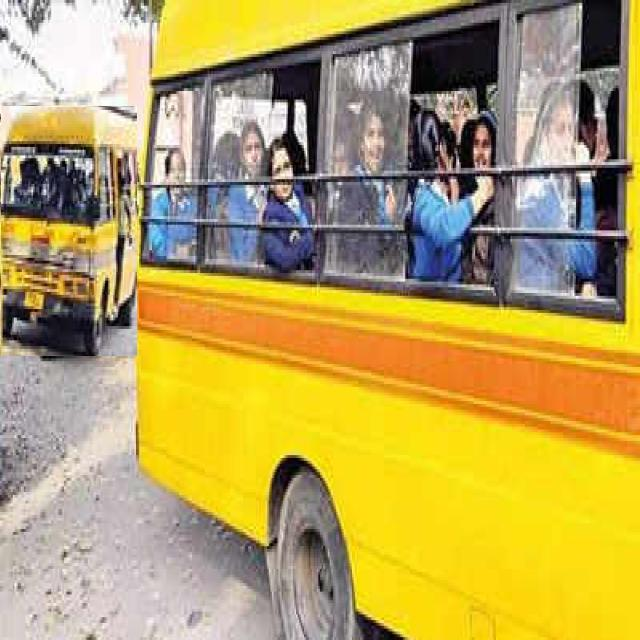bus: (135, 0, 640, 637), (1, 106, 136, 356)
